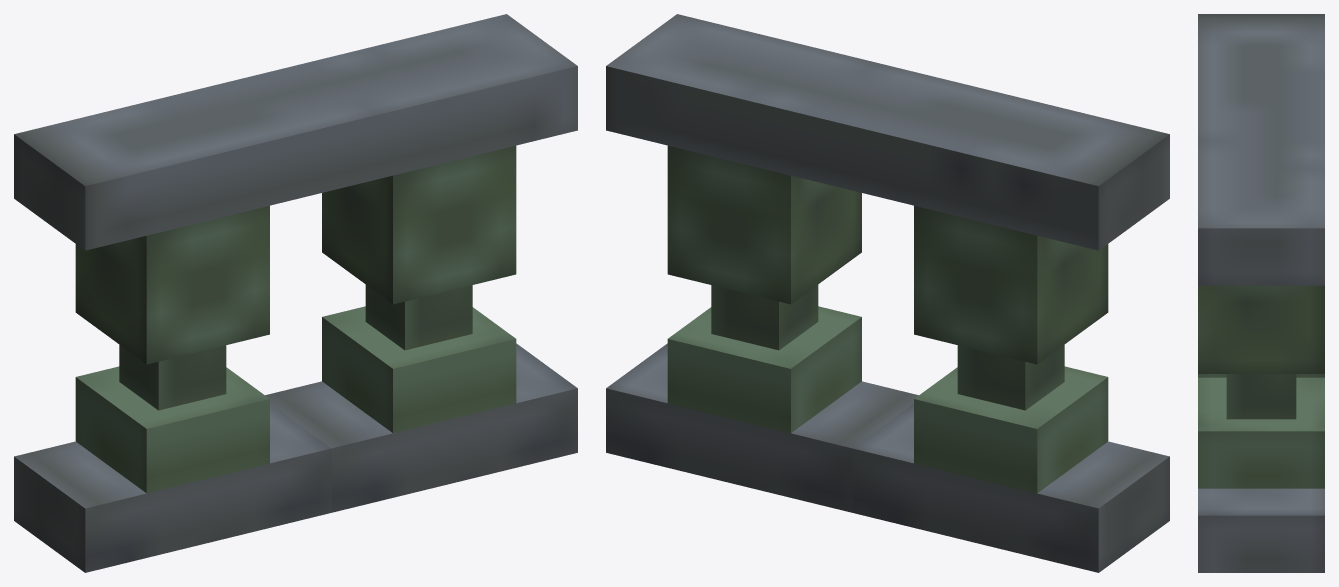
File: railing_type_02_green.fbx
3 views of the same model, side by side, from view 1: azimuth 30°, elevation 25°; view 2: azimuth 150°, elevation 25°; view 3: azimuth 270°, elevation 25° (orthographic). The views are drawn at different scales.
Parts seen in each view (by area): view 1: railing_type_02_green; view 2: railing_type_02_green; view 3: railing_type_02_green.
Boxes of the visible parts, bbox=[...] form: railing_type_02_green: bbox=[14, 14, 577, 572]; railing_type_02_green: bbox=[606, 14, 1169, 572]; railing_type_02_green: bbox=[1198, 14, 1324, 572].
Size of the model in its own units: 16 by 12 by 4.
